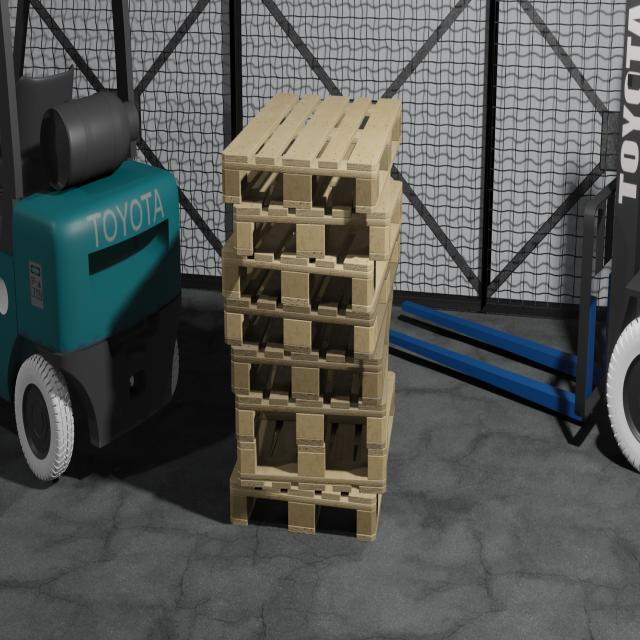block: (290, 356, 325, 408), (282, 492, 318, 538), (281, 311, 316, 356), (283, 162, 315, 210), (295, 440, 330, 483), (279, 260, 313, 304), (289, 411, 331, 444), (296, 216, 325, 258), (360, 365, 387, 410), (349, 314, 376, 358), (230, 349, 255, 394), (225, 485, 251, 526), (368, 413, 392, 456), (353, 167, 375, 212), (222, 152, 241, 204), (232, 402, 259, 438), (356, 498, 379, 540), (223, 308, 248, 342), (351, 268, 373, 306), (236, 444, 262, 476), (368, 220, 388, 260), (234, 214, 254, 254), (367, 450, 388, 488), (222, 255, 240, 298)
front: (229, 476, 384, 547), (216, 150, 376, 214), (221, 254, 376, 320), (234, 204, 394, 267), (233, 344, 388, 409), (225, 299, 380, 361), (232, 396, 390, 448)
